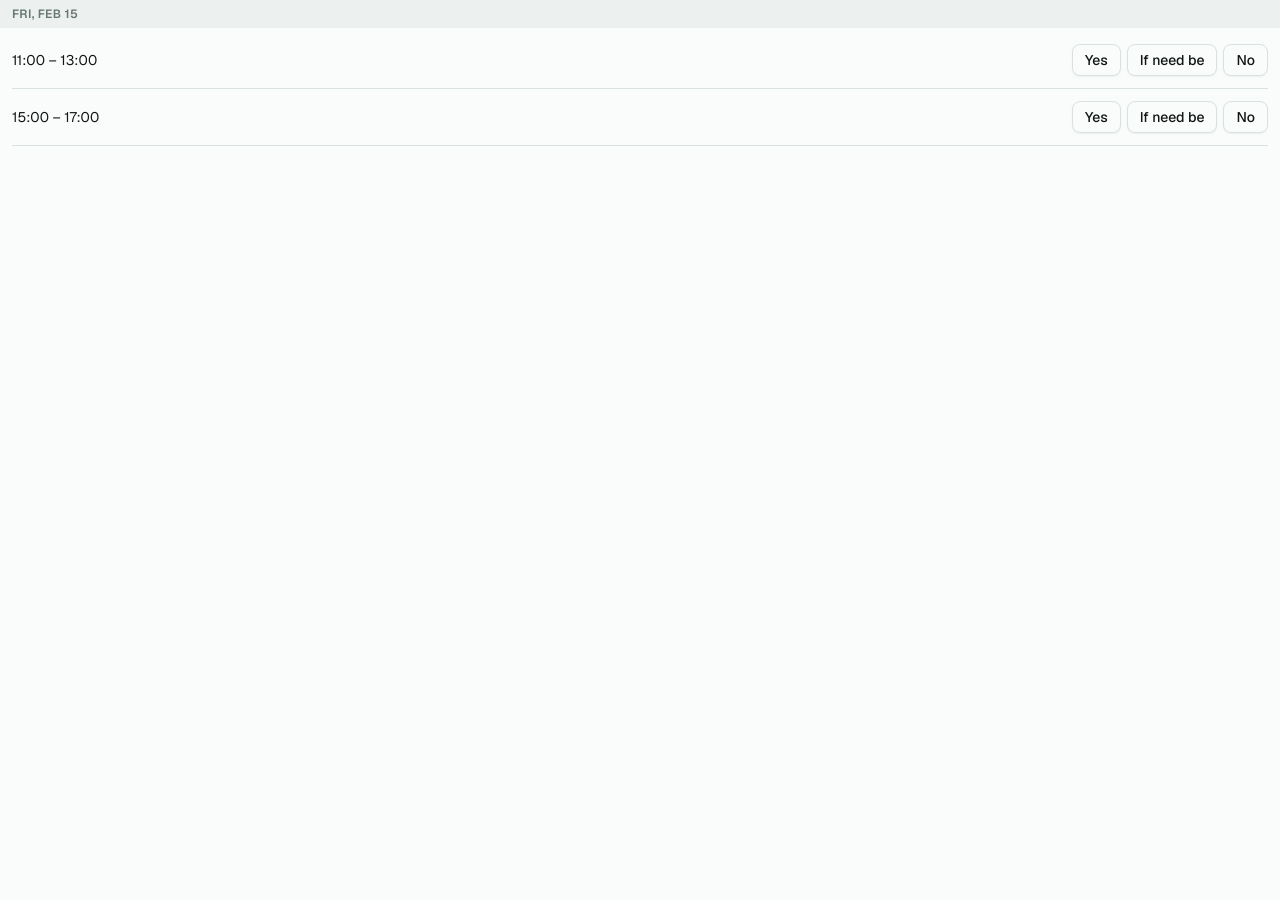
Test case: AvailabilityForm › save button enables after selecting a response
Click the button "Yes" in the row of "13:00": x=1096, y=60 [1072,44,1121,76]
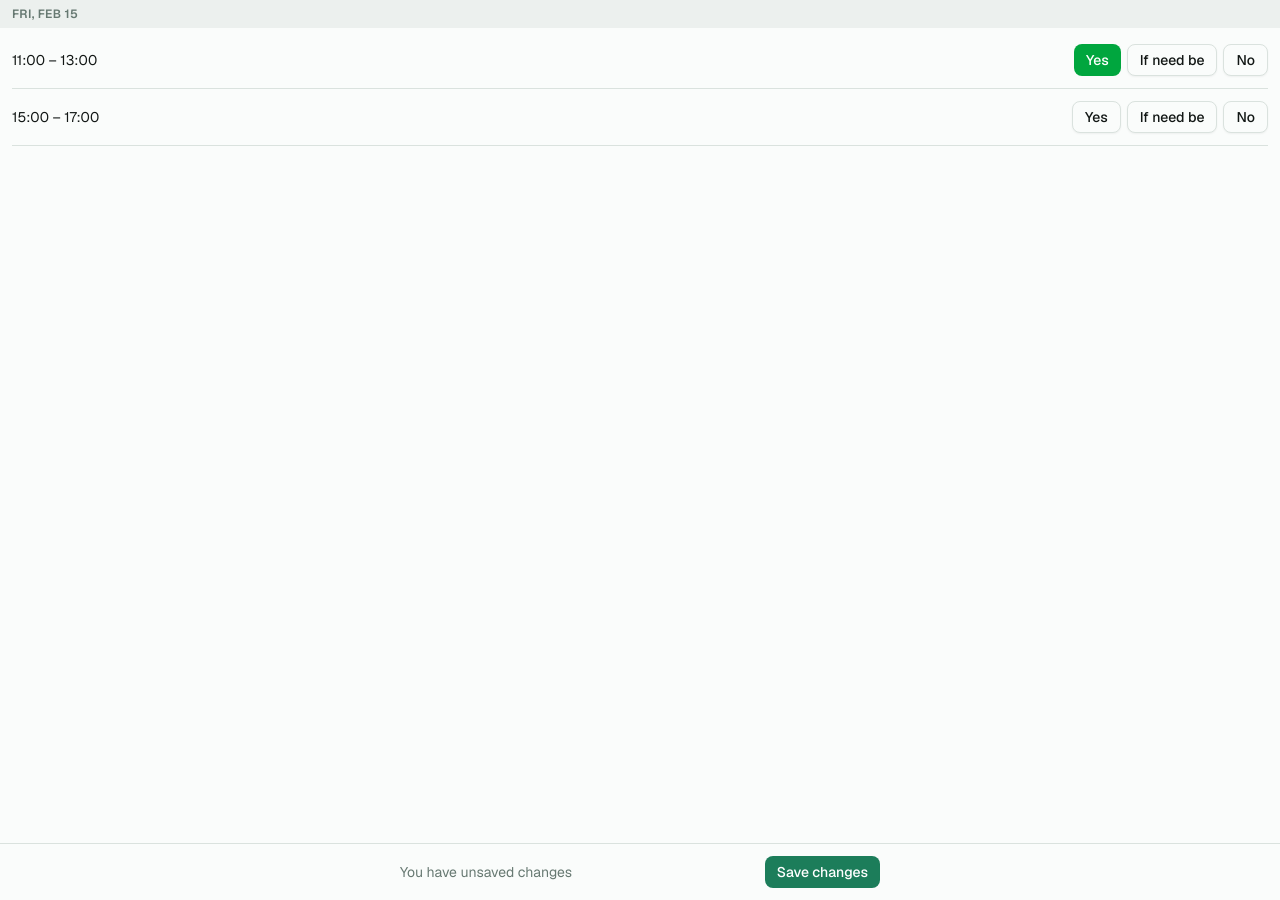
Check: the button "Save changes" is enabled, box [765,856,880,888]
